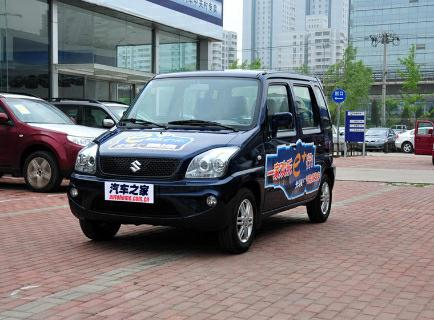铃木-北斗星: (70, 71, 337, 247)
